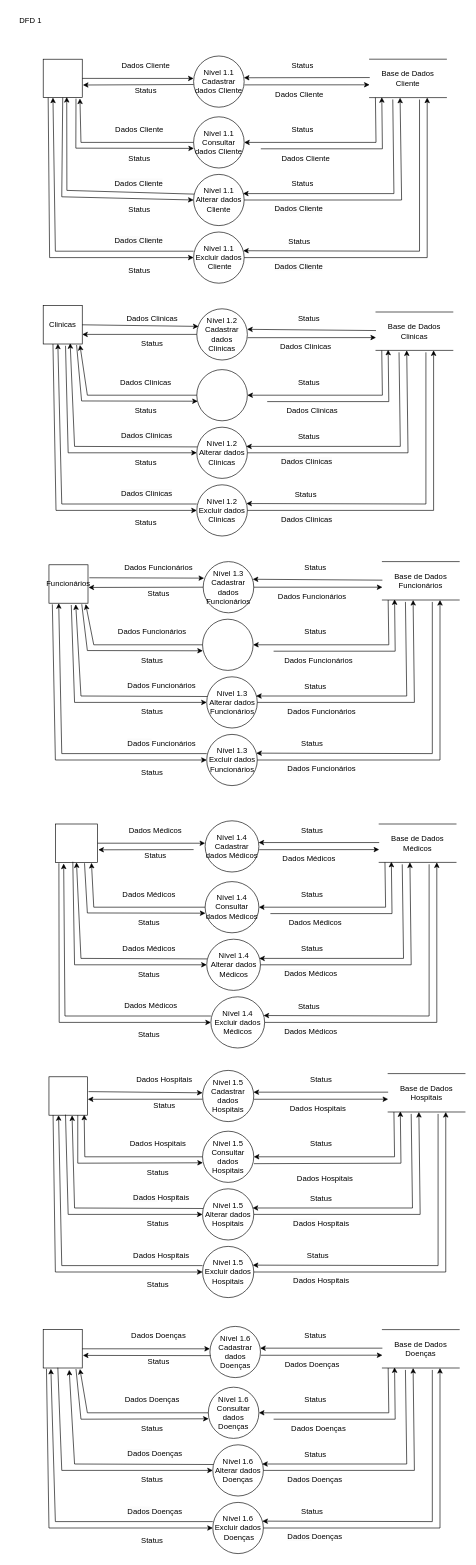
Some shapes in this 476 by 1565 pixel diagram are drawn without their labels. The shapes that lost their labels are listed below. From the top down, each one's centre as x and y in pixels, then its label:
[62,78]: Paciente
[221,395]: Nível 1.2 Consultar dados Clinicas
[227,644]: Nível 1.3 Consultar dados Funcionários
[76,842]: Médicos
[67,1095]: Hospitais
[62,1348]: Doenças
